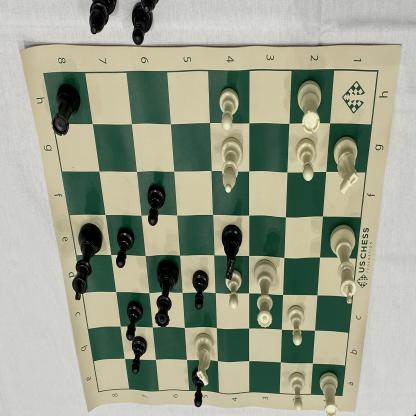black-king: (70, 219, 105, 306)
black-knight: (218, 222, 248, 281)
black-pawn: (144, 178, 167, 225), (113, 226, 137, 269), (123, 299, 147, 341), (189, 369, 211, 413), (129, 334, 150, 378), (191, 268, 210, 312)
black-queen: (154, 258, 182, 332)
black-rook: (50, 81, 82, 144)
white-bishop: (218, 135, 245, 196)
white-king: (328, 223, 362, 306)
white-knight: (331, 134, 363, 196), (192, 328, 216, 390)
white-pawn: (215, 85, 241, 136), (294, 135, 319, 184), (222, 268, 245, 313), (286, 303, 308, 345), (288, 370, 308, 415)
white-queen: (252, 256, 279, 334)
white-rook: (294, 79, 325, 136), (317, 369, 344, 416)
